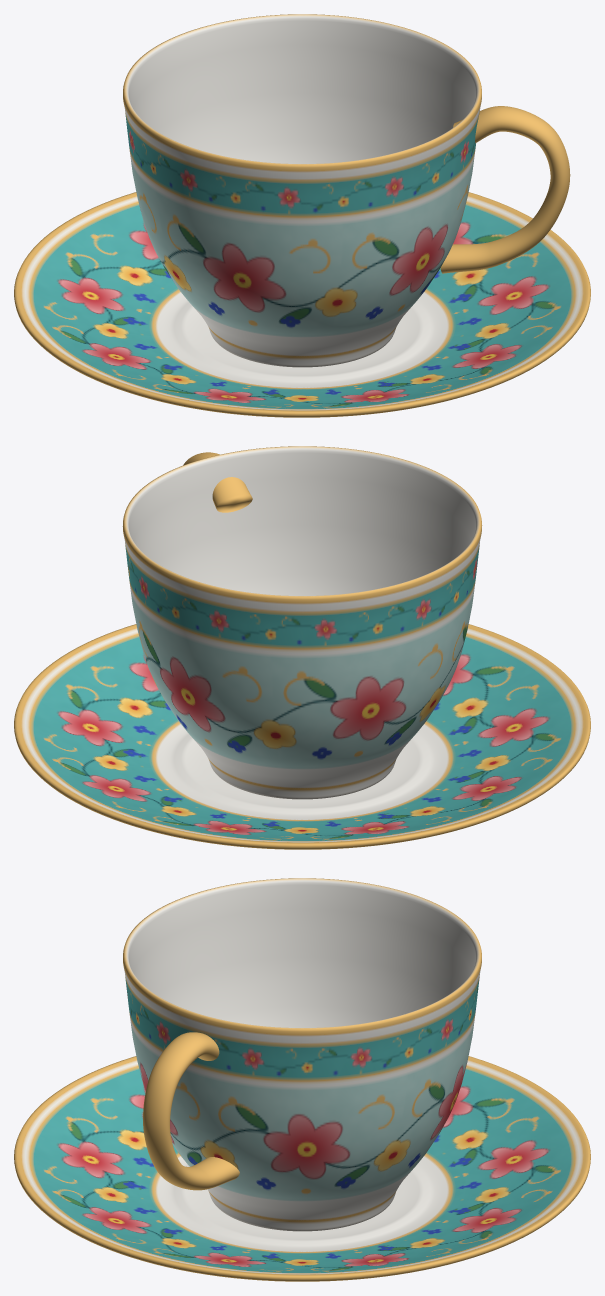
The model's file is imperial-cup-saucer.glb.
3 renders of one model, top to bottom at view 1: azimuth 30°, elevation 25°; view 2: azimuth 150°, elevation 25°; view 3: azimuth 270°, elevation 25°, orthographic.
Visible parts, largest first — view 1: cup, saucer, cup-handle; view 2: cup, saucer, cup-handle; view 3: cup, saucer, cup-handle.
Boxes of the visible parts, x1,y1,x2,y2 form: cup: [123, 14, 481, 367]; saucer: [14, 192, 590, 417]; cup-handle: [440, 106, 570, 273]; cup: [122, 446, 482, 799]; saucer: [14, 624, 590, 849]; cup-handle: [183, 452, 252, 512]; cup: [123, 878, 481, 1231]; saucer: [14, 1056, 590, 1281]; cup-handle: [143, 1032, 239, 1190].
Bounding box in the file's own units: 0.1506 × 0.0753 × 0.1506.
3 materials, 2 textured.
